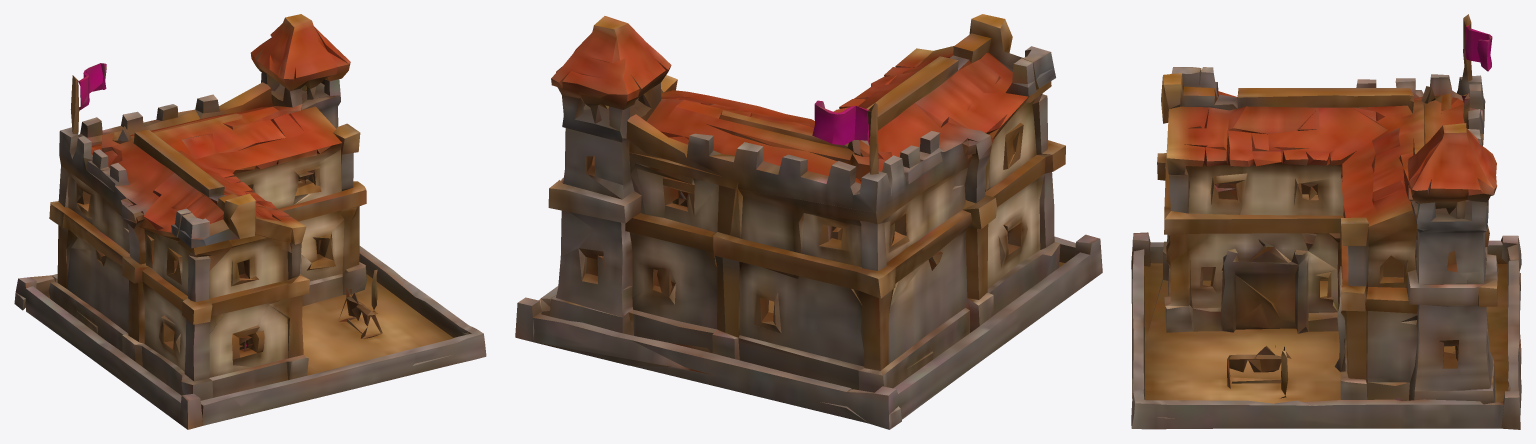
Rendered from barracks2.lod2.glb.
3 views of the same model, side by side, from view 1: azimuth 30°, elevation 25°; view 2: azimuth 150°, elevation 25°; view 3: azimuth 270°, elevation 25° (orthographic). The views are drawn at different scales.
Parts seen in each view (by area): view 1: barracks2.lod2_uv; view 2: barracks2.lod2_uv; view 3: barracks2.lod2_uv.
Part boxes in pixels (box(x1,y1,x2,y2)): barracks2.lod2_uv: box(14, 14, 486, 429); barracks2.lod2_uv: box(515, 14, 1102, 429); barracks2.lod2_uv: box(1131, 14, 1521, 429).
Bounding box in the file's own units: 1.91 × 1.48 × 1.89.
Materials: 1 (1 with a texture image).
